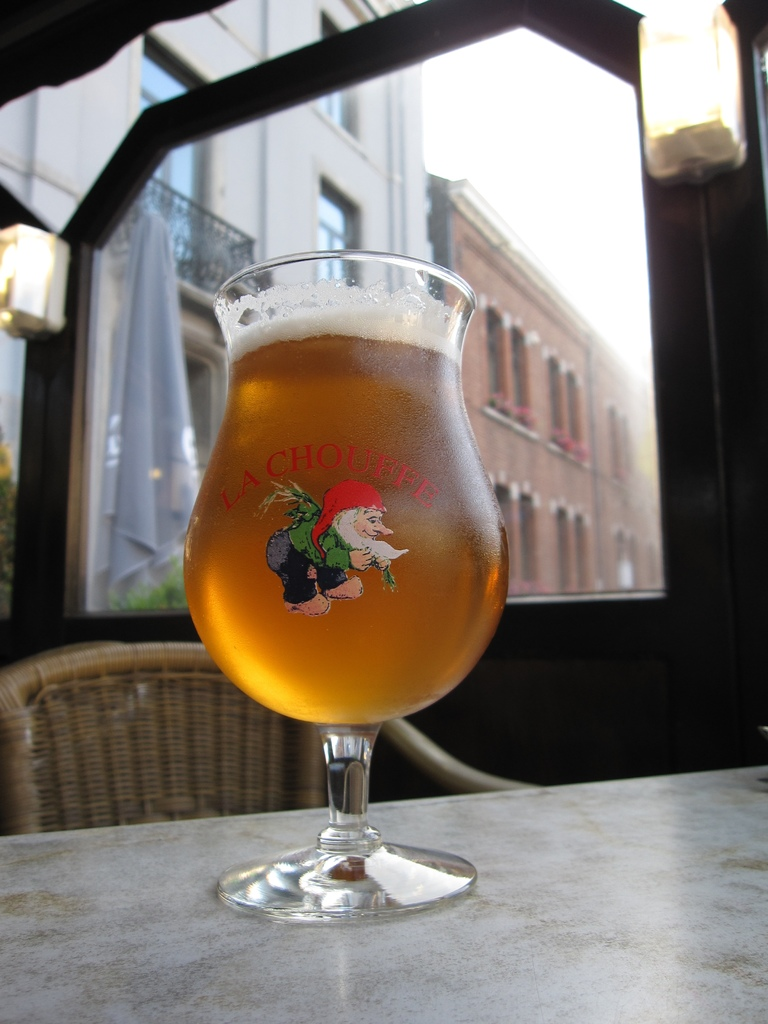Beer: (185, 280, 503, 721)
